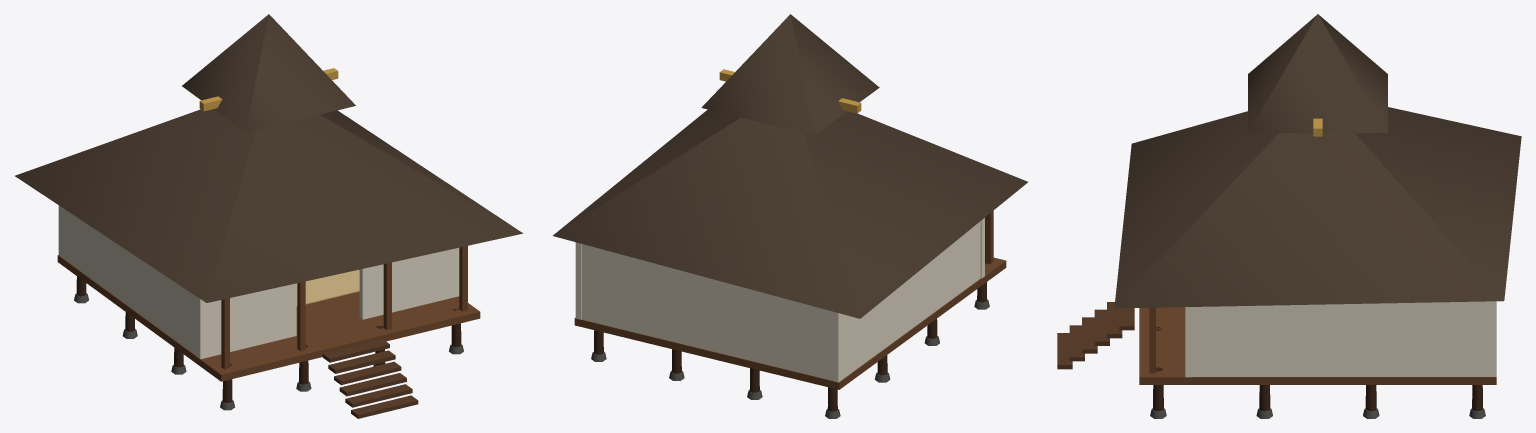
The model's file is rumah-bubungan-tinggi.glb.
The picture shows the model from 3 angles, left to right: view 1: azimuth 30°, elevation 25°; view 2: azimuth 150°, elevation 25°; view 3: azimuth 270°, elevation 25°; orthographic projection. The views are drawn at different scales.
Parts seen in each view (by area): view 1: ROOF_SYSTEM, WALL_SYSTEM, FLOOR_SYSTEM, ENTRANCE_STAIRS, STRUCTURAL_COLUMNS, INTERIOR_MAT, FOUNDATION_SYSTEM; view 2: ROOF_SYSTEM, WALL_SYSTEM, FLOOR_SYSTEM, STRUCTURAL_COLUMNS, FOUNDATION_SYSTEM; view 3: ROOF_SYSTEM, WALL_SYSTEM, FLOOR_SYSTEM, ENTRANCE_STAIRS, STRUCTURAL_COLUMNS, FOUNDATION_SYSTEM.
Boxes of the visible parts, x1,y1,x2,y2 form: ROOF_SYSTEM: (15,14,523,302); WALL_SYSTEM: (58,205,459,359); FLOOR_SYSTEM: (57,255,480,381); ENTRANCE_STAIRS: (322,339,418,418); STRUCTURAL_COLUMNS: (76,246,467,402); INTERIOR_MAT: (296,270,359,306); FOUNDATION_SYSTEM: (74,293,463,410); ROOF_SYSTEM: (553,14,1027,318); WALL_SYSTEM: (575,218,984,382); FLOOR_SYSTEM: (574,257,1006,389); STRUCTURAL_COLUMNS: (593,211,993,411); FOUNDATION_SYSTEM: (591,300,989,418); ROOF_SYSTEM: (1114,14,1521,308); WALL_SYSTEM: (1185,301,1496,377); FLOOR_SYSTEM: (1139,307,1496,384); ENTRANCE_STAIRS: (1057,302,1134,369); STRUCTURAL_COLUMNS: (1149,307,1483,411); FOUNDATION_SYSTEM: (1150,408,1485,418).
Size of what is drawn, in the model's own units: 10.72 by 9.9 by 12.22.
